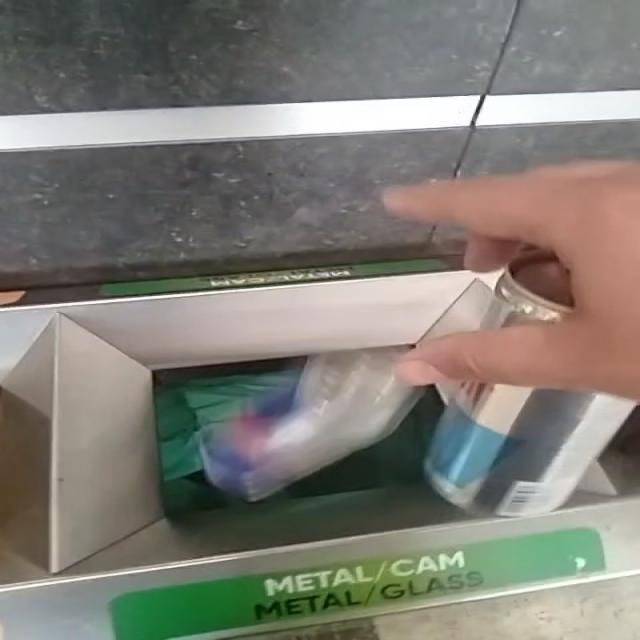bin: (2, 273, 640, 640)
metal: (201, 348, 423, 502)
